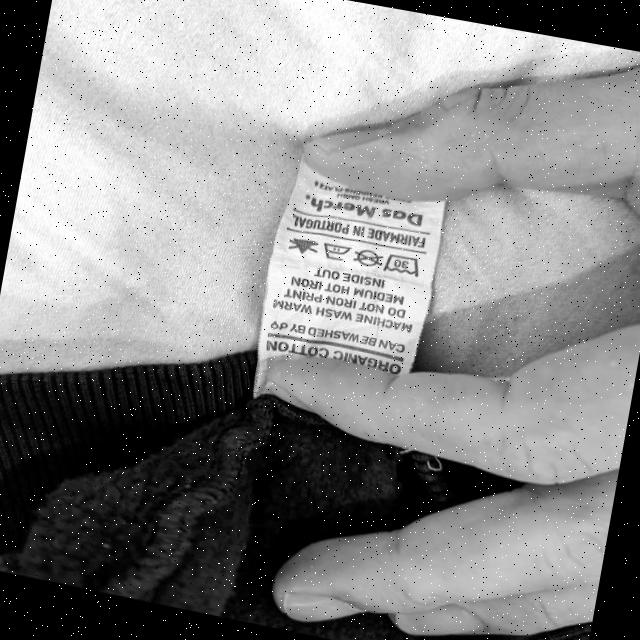ER_iron_medium_temp: (322, 240, 353, 267)
ER_no_bleach: (289, 236, 320, 259)
ER_no_dry_clean: (354, 247, 383, 270)
ER_wash_30: (383, 251, 420, 280)
